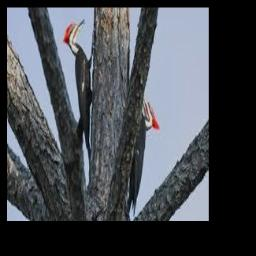Woodpecker: (64, 19, 95, 160), (128, 88, 160, 215)
